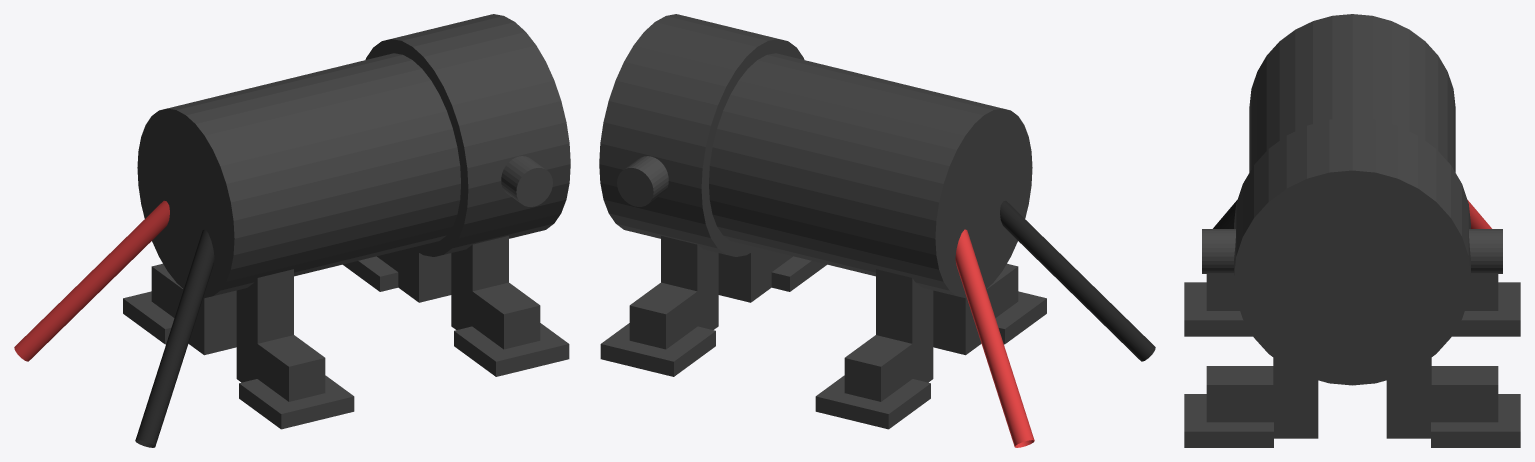
Rendered from pump.glb.
The picture shows the model from 3 angles, left to right: view 1: azimuth 30°, elevation 25°; view 2: azimuth 150°, elevation 25°; view 3: azimuth 270°, elevation 25°; orthographic projection. The views are drawn at different scales.
Visible parts, largest first — view 1: Body, Head, WireBlack, LegBridge_2, LegBridge_4, WireRed, LegRiser_2, Foot_2, Foot_4, LegBridge_1, LegRiser_4, LegBridge_3 (+5 smaller); view 2: Body, Head, WireRed, LegBridge_1, LegBridge_3, WireBlack, LegRiser_1, Foot_1, Foot_3, LegRiser_3, LegBridge_4, LegBridge_2 (+5 smaller); view 3: Body, Head, LegBridge_4, LegBridge_3, Foot_3, Foot_4, Foot_1, Foot_2, LegRiser_4, LegRiser_3, Port_L, Port_R (+2 smaller).
Boxes of the visible parts, box(x1,y1,x2,y2) form: Body: box(137, 53, 460, 298); Head: box(365, 14, 570, 256); WireBlack: box(135, 229, 214, 447); LegBridge_2: box(236, 329, 325, 401); LegBridge_4: box(451, 276, 540, 349); WireRed: box(14, 200, 169, 361); LegRiser_2: box(236, 269, 293, 343); Foot_2: box(239, 375, 354, 429); Foot_4: box(454, 323, 569, 376); LegBridge_1: box(151, 263, 235, 354); LegRiser_4: box(451, 236, 508, 327); LegBridge_3: box(377, 248, 451, 302); Body: box(709, 53, 1032, 298); Head: box(599, 14, 804, 256); WireRed: box(955, 229, 1034, 447); LegBridge_1: box(844, 329, 933, 401); LegBridge_3: box(629, 276, 718, 349); WireBlack: box(1000, 200, 1155, 361); LegRiser_1: box(876, 269, 933, 343); Foot_1: box(815, 375, 930, 429); Foot_3: box(600, 323, 715, 376); LegRiser_3: box(661, 236, 718, 329); LegBridge_4: box(718, 248, 792, 302); LegBridge_2: box(933, 263, 1018, 354); Body: box(1249, 14, 1455, 371); Head: box(1234, 117, 1470, 385); LegBridge_4: box(1206, 366, 1318, 438); LegBridge_3: box(1386, 366, 1498, 438); Foot_3: box(1431, 394, 1520, 447); Foot_4: box(1184, 394, 1273, 447); Foot_1: box(1452, 282, 1520, 336); Foot_2: box(1184, 282, 1252, 336); LegRiser_4: box(1273, 358, 1318, 438); LegRiser_3: box(1386, 358, 1431, 438); Port_L: box(1202, 229, 1235, 273); Port_R: box(1469, 229, 1502, 273).
Bounding box in the file's own units: 0.12 × 0.0727 × 0.075.
